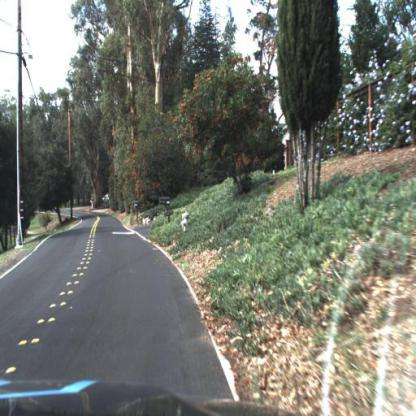car: (99, 187, 113, 212)
